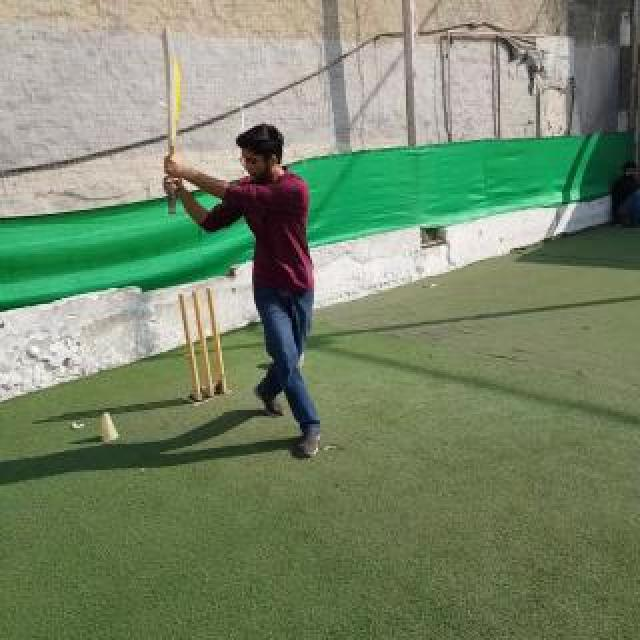bat: (162, 26, 182, 214)
